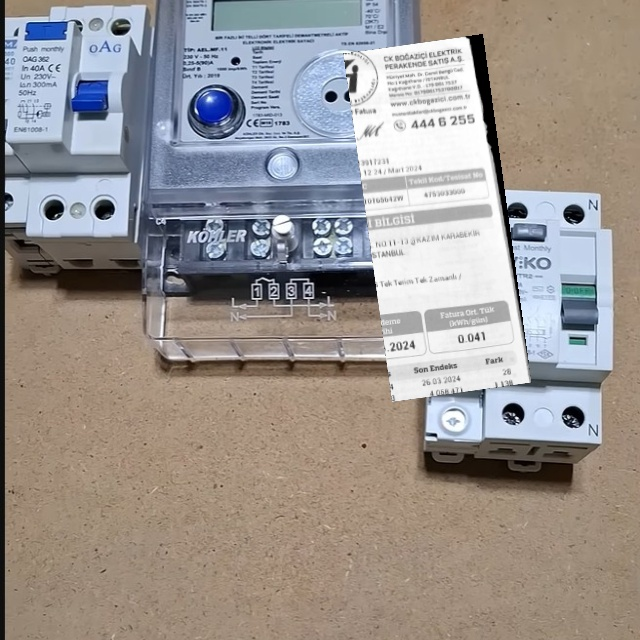electricity-bill: (343, 34, 532, 402)
